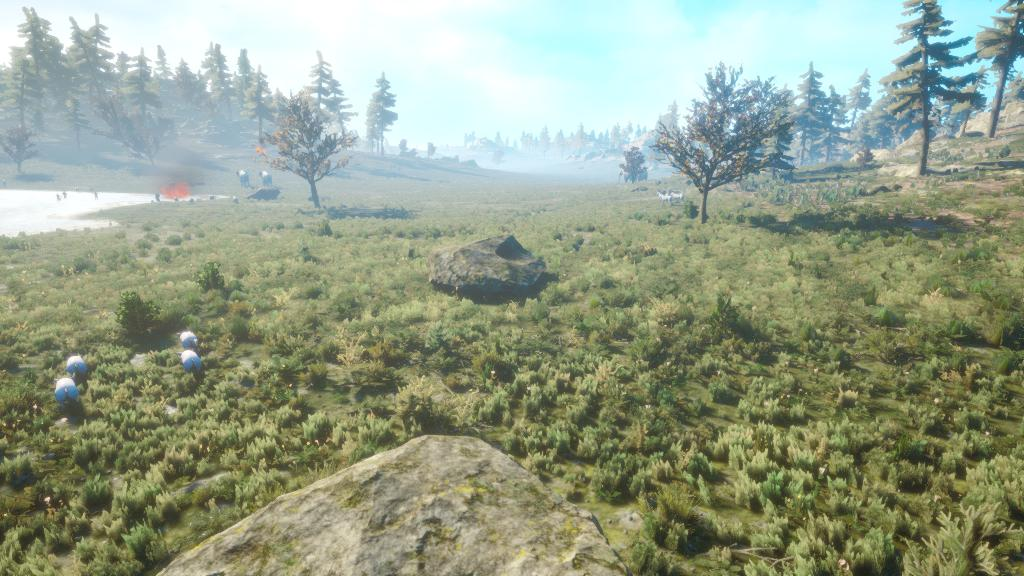Fire: (157, 180, 193, 201)
elephant: (256, 165, 276, 192), (235, 166, 254, 193)
human: (92, 190, 100, 201), (61, 189, 68, 200), (55, 193, 63, 202), (73, 184, 80, 194), (89, 185, 96, 193)
pig: (51, 377, 83, 407), (63, 352, 95, 381), (176, 348, 208, 376), (179, 328, 204, 354)
smoke: (159, 146, 201, 184)
zebra: (653, 191, 678, 208), (670, 187, 690, 204)
